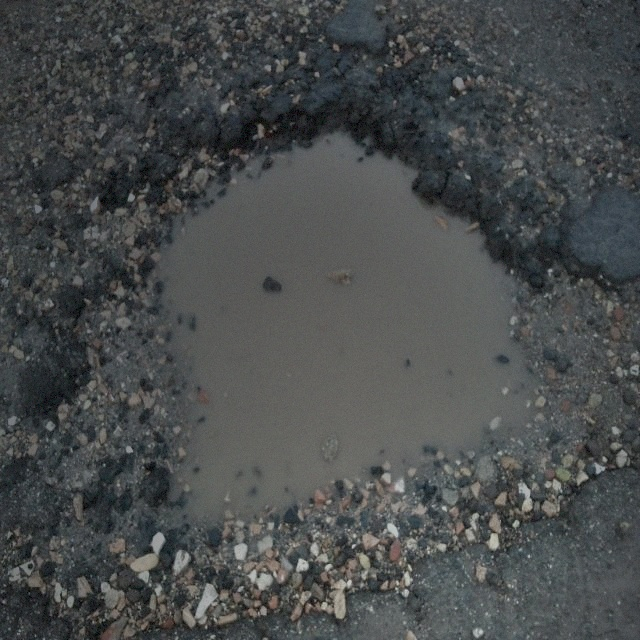pothole: (132, 89, 564, 528)
